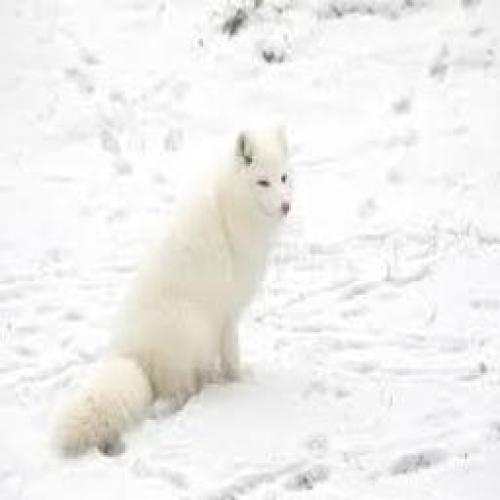arctic_fox-endangered: (47, 121, 294, 460)
